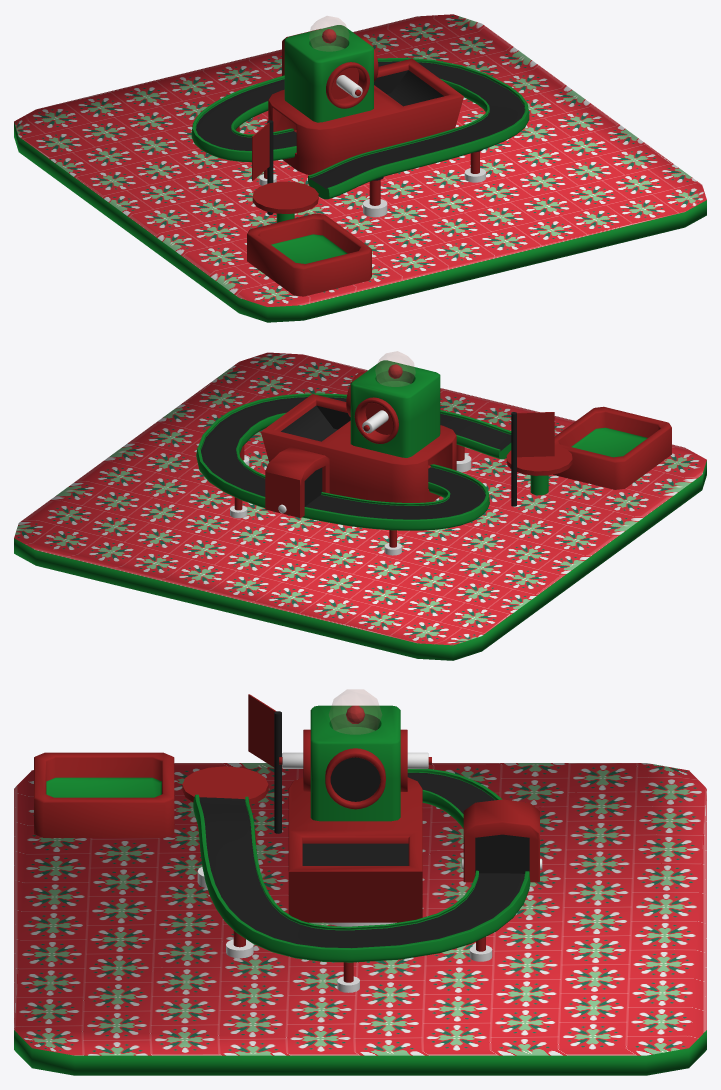
3 views of the same model, one above another, from view 1: azimuth 30°, elevation 25°; view 2: azimuth 150°, elevation 25°; view 3: azimuth 270°, elevation 25° (orthographic). The views are drawn at different scales.
Visible parts, largest first — view 1: Floor, Band, GiftGenerator, EndBucket, LetterGenerator, HitSupport, BandSupport, EnergySphere, GiftHitter; view 2: Floor, Band, GiftGenerator, LetterGenerator, EndBucket, ColorGiver, GiftHitter, HitSupport, EnergySphere, BandSupport; view 3: Floor, Band, GiftGenerator, EndBucket, LetterGenerator, ColorGiver, GiftHitter, HitSupport, EnergySphere, BandSupport.
Part boxes in pixels (<box>): Floor: <box>14,14,706,322</box>; Band: <box>191,58,529,199</box>; GiftGenerator: <box>268,58,463,174</box>; EndBucket: <box>247,213,371,296</box>; LetterGenerator: <box>284,25,378,122</box>; HitSupport: <box>252,181,318,222</box>; BandSupport: <box>236,126,485,217</box>; EnergySphere: <box>309,16,349,51</box>; GiftHitter: <box>252,120,273,214</box>; Floor: <box>14,352,706,660</box>; Band: <box>196,393,511,530</box>; GiftGenerator: <box>261,394,456,502</box>; LetterGenerator: <box>346,360,440,457</box>; EndBucket: <box>553,406,671,489</box>; ColorGiver: <box>265,447,329,517</box>; GiftHitter: <box>511,412,554,506</box>; HitSupport: <box>506,445,572,495</box>; EnergySphere: <box>375,351,415,386</box>; BandSupport: <box>230,444,471,555</box>; Floor: <box>14,763,706,1075</box>; Band: <box>193,768,530,962</box>; GiftGenerator: <box>288,777,422,922</box>; EndBucket: <box>34,752,174,837</box>; LetterGenerator: <box>279,705,431,821</box>; ColorGiver: <box>463,799,539,882</box>; GiftHitter: <box>248,694,281,833</box>; HitSupport: <box>182,766,268,804</box>; EnergySphere: <box>329,689,381,734</box>; BandSupport: <box>197,867,492,992</box>.
Size of the model in its own units: 10.35 by 3.59 by 10.35.
6 materials, 1 textured.
